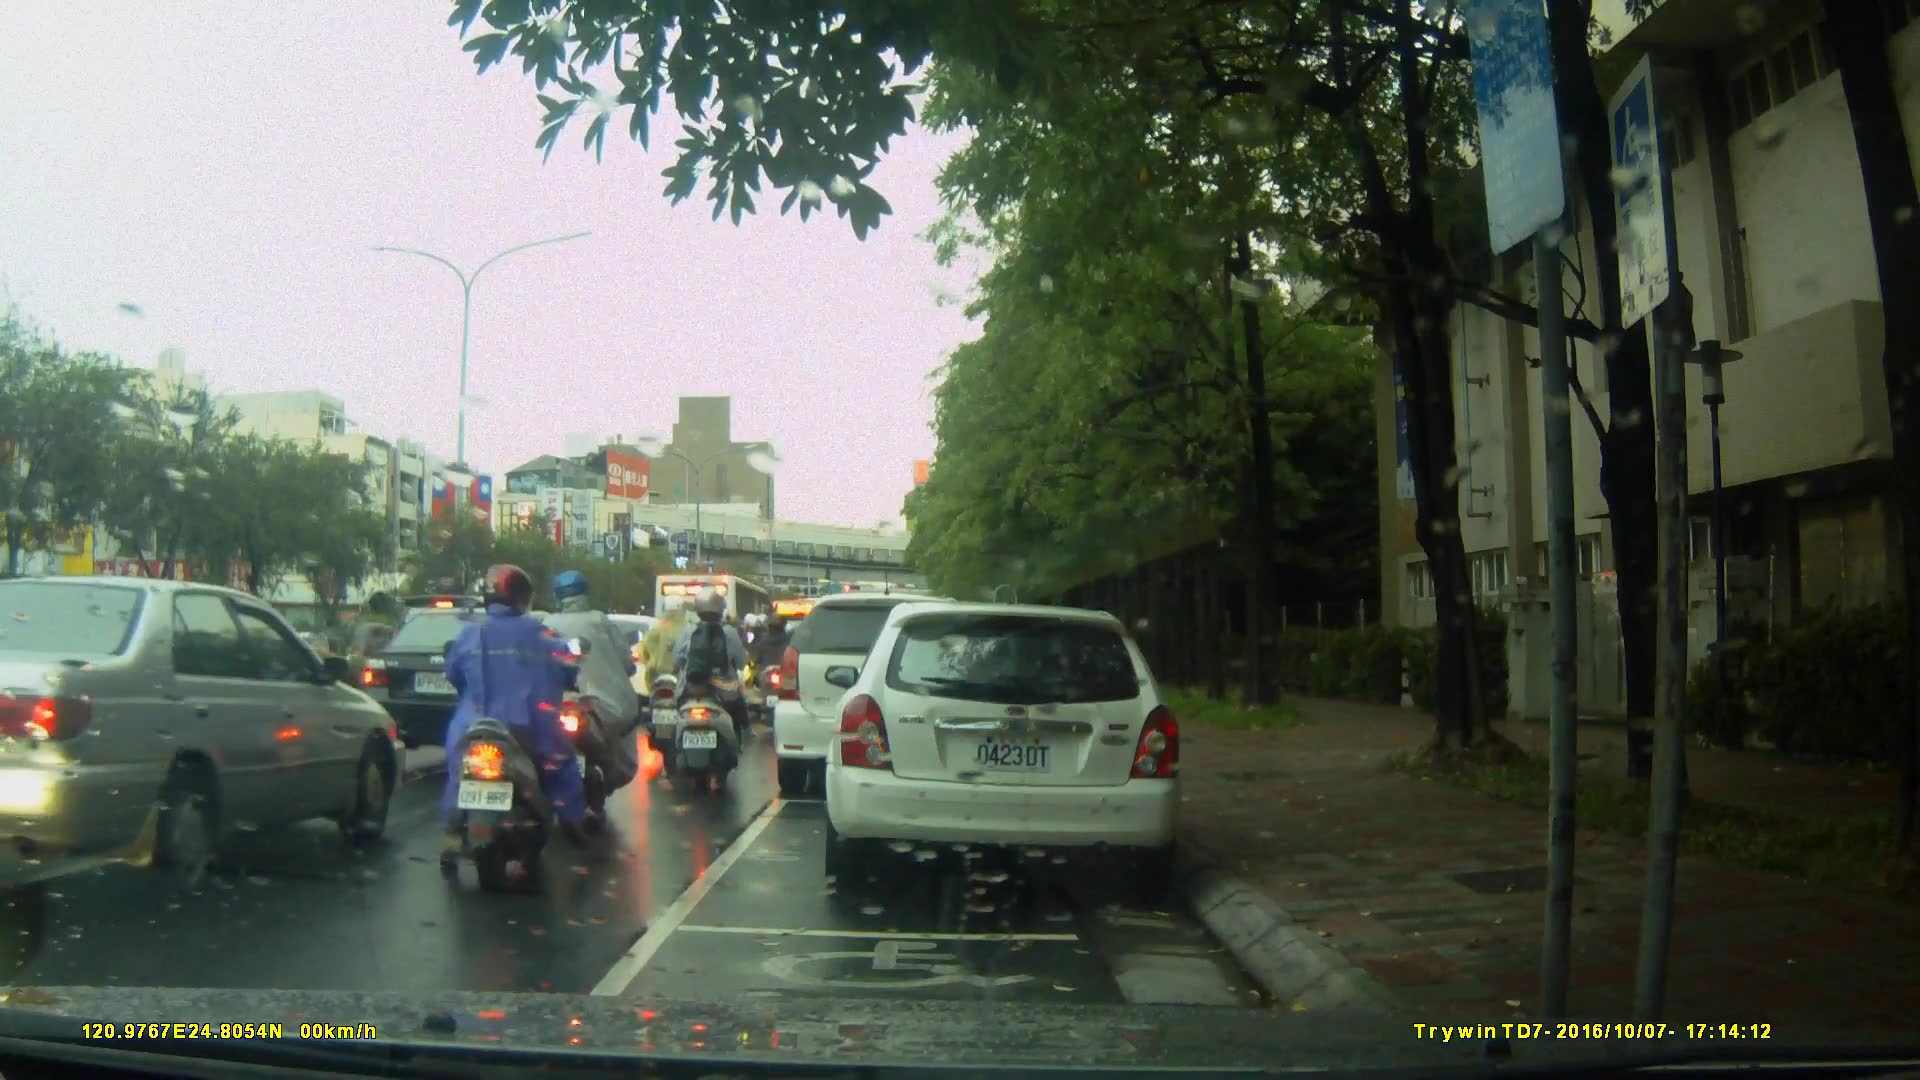rider: (445, 564, 594, 899), (531, 566, 637, 824), (664, 591, 744, 782), (627, 601, 709, 758), (746, 612, 793, 733)
vehicle: (1, 574, 412, 909), (831, 592, 1196, 897), (768, 592, 999, 801), (356, 606, 575, 755), (650, 571, 783, 703), (540, 613, 674, 722)
